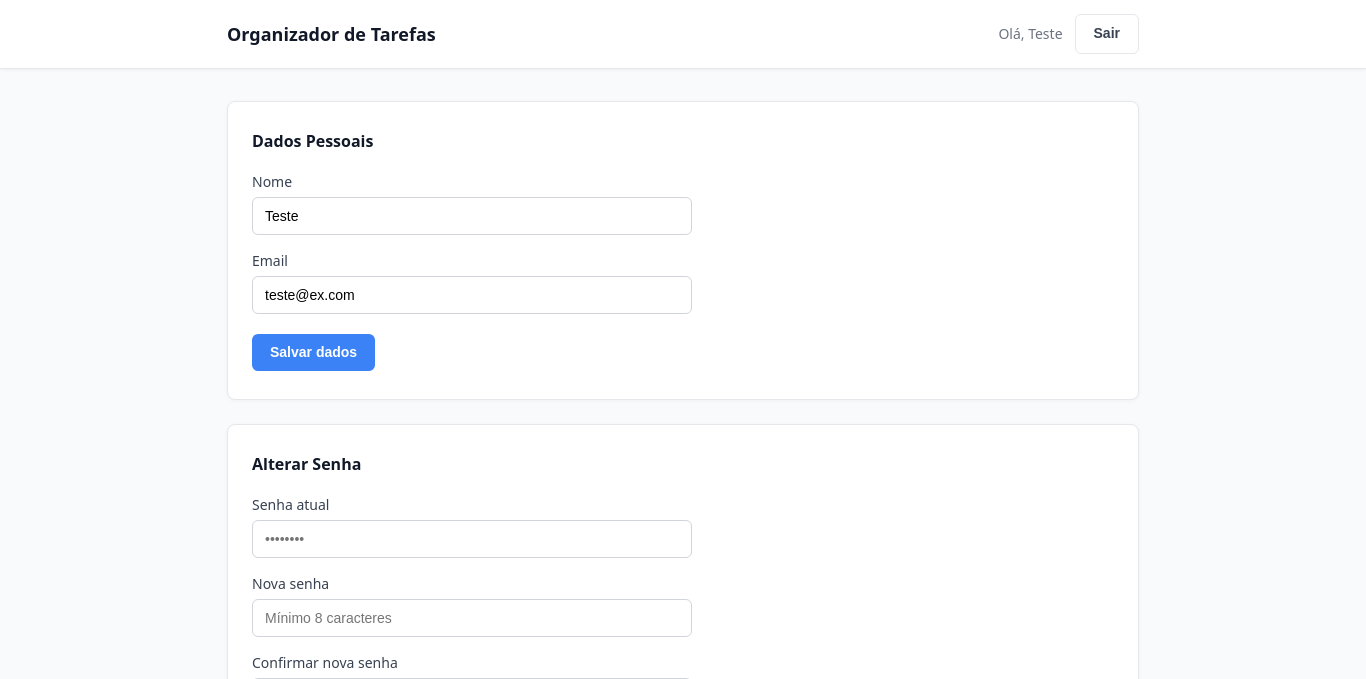
Test: Perfil — Dados Pessoais › deve exibir mensagem de erro ao falhar ao salvar dados
Expected: the field showing "Teste" is shown, [252,196,692,234]
Click the button "Salvar dados".
click(314, 352)  # box [252,334,375,371]
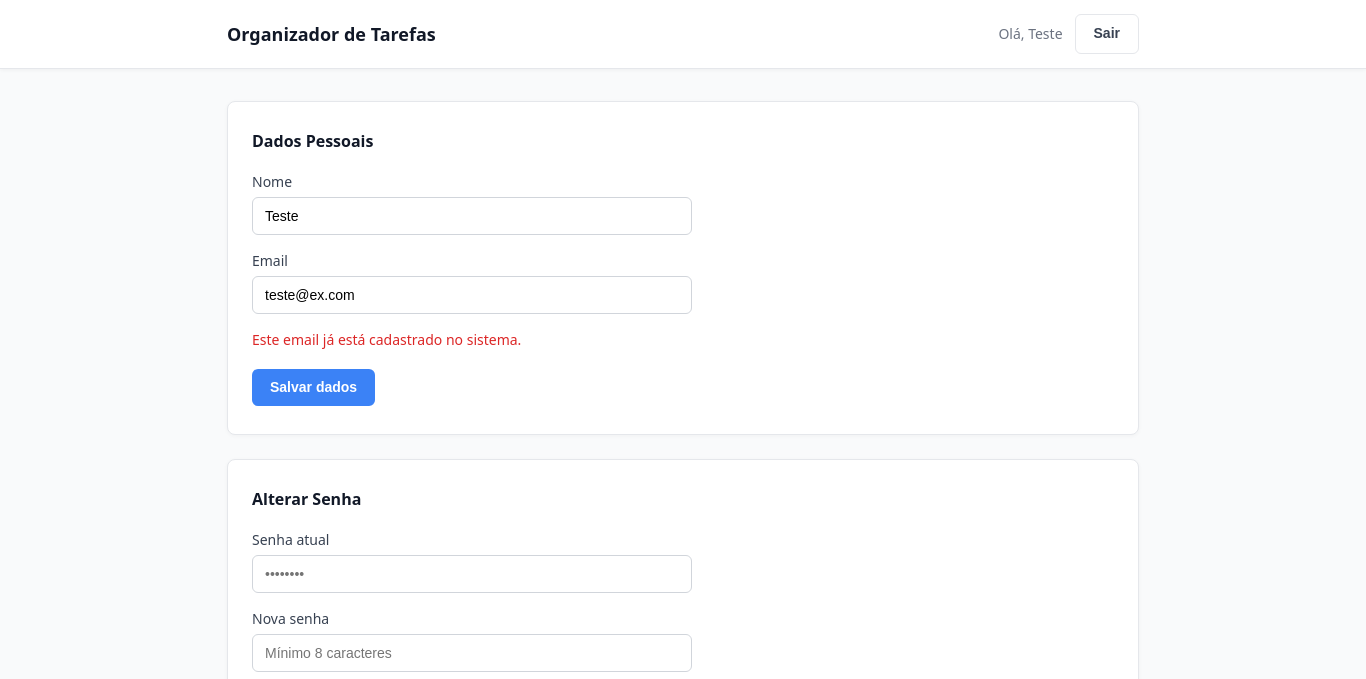
Result: the text "Este email já está cadastrado no sistema." is shown at [252,330,521,348]
